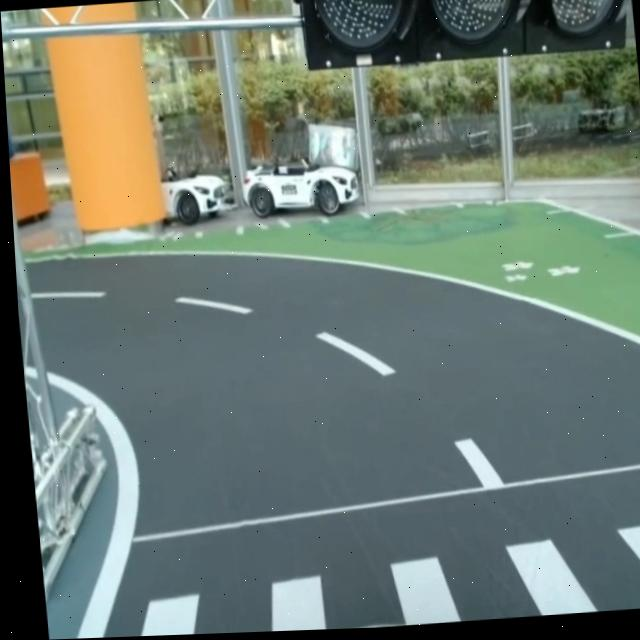traffic-light: (293, 0, 636, 74)
